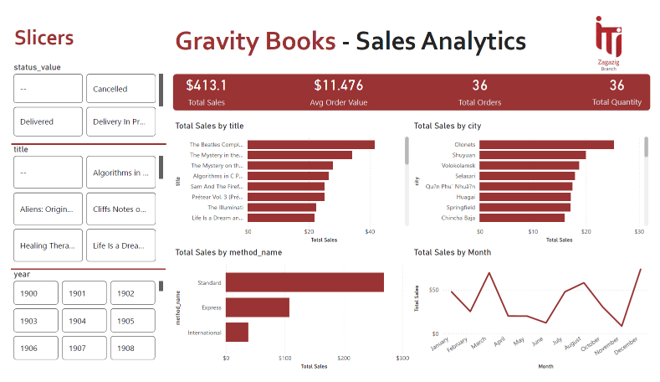

What the dashboard file says about the page in this screenshot:
{"tool":"powerbi","page":{"name":"Page 1","canvas":[1280,720],"ordinal":0},"visuals":[{"type":"card","fields":{"Values":["Sales_fact.Total Quantity"]},"box":[1144.8,108.5,135.1,93],"z":0,"group":"g1"},{"type":"shape","box":[322.5,122.5,957.5,75],"z":0},{"type":"textbox","box":[322.5,18.8,800,91.2],"z":1000},{"type":"textbox","box":[1.2,18.8,156.2,65],"z":2000},{"type":"card","fields":{"Values":["Sales_fact.Total Orders"]},"box":[874.4,111.4,127.8,88.6],"z":2000,"group":"g1"},{"type":"group","id":"g1","title":"Group 2","box":[323.1,108.5,956.9,94],"z":3000},{"type":"card","fields":{"Values":["Sales_fact.Total Sales"]},"box":[323.1,109.1,136.2,92.5],"z":4000,"group":"g1"},{"type":"advancedSlicerVisual","fields":{"Values":["Date_dim.year"]},"box":[0,513.8,308.8,187.5],"z":4000},{"type":"image","box":[1110,0,170,122.5],"z":5000},{"type":"card","fields":{"Values":["Sales_fact.Avg Order Value"]},"box":[579.9,108.8,151.7,93.8],"z":5000,"group":"g1"},{"type":"advancedSlicerVisual","fields":{"Values":["Book_dim.title"]},"box":[0,263.8,308.8,241.2],"z":6000},{"type":"advancedSlicerVisual","fields":{"Values":["OrderStatus_dim.status_value"]},"box":[0,100,308.8,155],"z":7000},{"type":"barChart","fields":{"Category":["Book_dim.title"],"Y":["Sales_fact.Total Sales"]},"box":[322.5,217.3,478.6,250.2],"z":8000},{"type":"barChart","fields":{"Category":["Address_dim.city"],"Y":["Sales_fact.Total Sales"]},"box":[801.1,217.3,478.6,250.2],"z":9000},{"type":"barChart","fields":{"Y":["Sales_fact.Total Sales"],"Category":["ShippingMethod_dim.method_name"]},"box":[322.9,469.8,478.6,250.2],"z":10000},{"type":"lineChart","fields":{"Category":["Date_dim.full_date.Variation.Date Hierarchy.Year","Date_dim.full_date.Variation.Date Hierarchy.Quarter","Date_dim.full_date.Variation.Date Hierarchy.Month","Date_dim.full_date.Variation.Date Hierarchy.Day"],"Y":["Sales_fact.Total Sales"]},"box":[801.4,469.8,478.6,250.2],"z":11000},{"type":"shape","box":[1.2,255,308.8,17.5],"z":12000},{"type":"shape","box":[0,505,308.8,17.5],"z":13000}]}

Visuals, with their boxes in screenshot pixels (x1, y1, x2, y2), scaled from the page's 1280x720 canvas onto the 660x382 screenshot:
card - Sales_fact.Total Quantity: x1=590 y1=58 x2=659 y2=107
shape: x1=166 y1=65 x2=659 y2=105
textbox: x1=166 y1=10 x2=579 y2=58
textbox: x1=1 y1=10 x2=81 y2=44
card - Sales_fact.Total Orders: x1=451 y1=59 x2=517 y2=106
"Group 2" group: x1=167 y1=58 x2=659 y2=107
card - Sales_fact.Total Sales: x1=167 y1=58 x2=237 y2=107
advancedSlicerVisual - Date_dim.year: x1=0 y1=273 x2=159 y2=372
image: x1=572 y1=0 x2=659 y2=65
card - Sales_fact.Avg Order Value: x1=299 y1=58 x2=377 y2=107
advancedSlicerVisual - Book_dim.title: x1=0 y1=140 x2=159 y2=268
advancedSlicerVisual - OrderStatus_dim.status_value: x1=0 y1=53 x2=159 y2=135
barChart - Book_dim.title x Sales_fact.Total Sales: x1=166 y1=115 x2=413 y2=248
barChart - Address_dim.city x Sales_fact.Total Sales: x1=413 y1=115 x2=659 y2=248
barChart - Sales_fact.Total Sales x ShippingMethod_dim.method_name: x1=166 y1=249 x2=413 y2=381
lineChart - Date_dim.full_date.Variation.Date Hierarchy.Year x Date_dim.full_date.Variation.Date Hierarchy.Quarter: x1=413 y1=249 x2=659 y2=381
shape: x1=1 y1=135 x2=160 y2=145
shape: x1=0 y1=268 x2=159 y2=277
